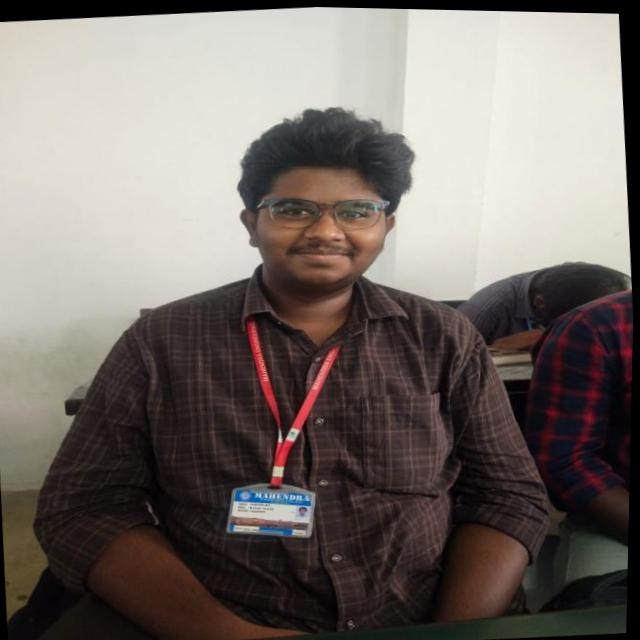id_card: (205, 290, 367, 553)
